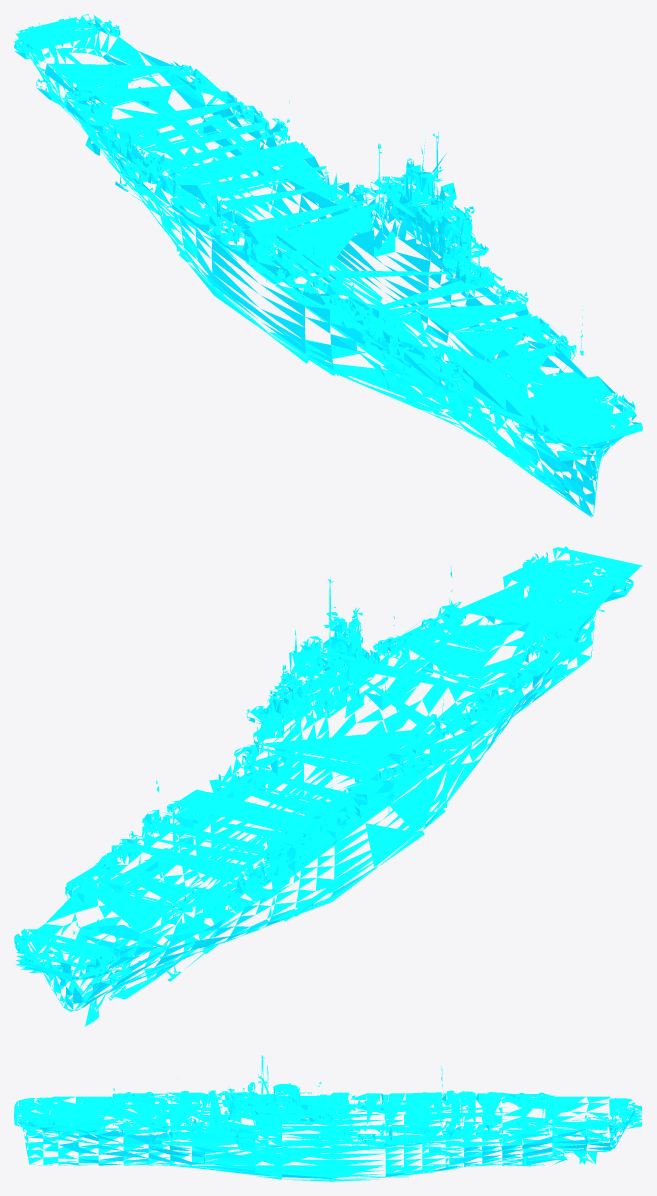
The model's file is Indomitable.glb.
The picture shows the model from 3 angles, top to bottom: view 1: azimuth 30°, elevation 25°; view 2: azimuth 150°, elevation 25°; view 3: azimuth 270°, elevation 25°; orthographic projection. The views are drawn at different scales.
Size of the model in its own units: 2.4 by 3.34 by 15.32.
